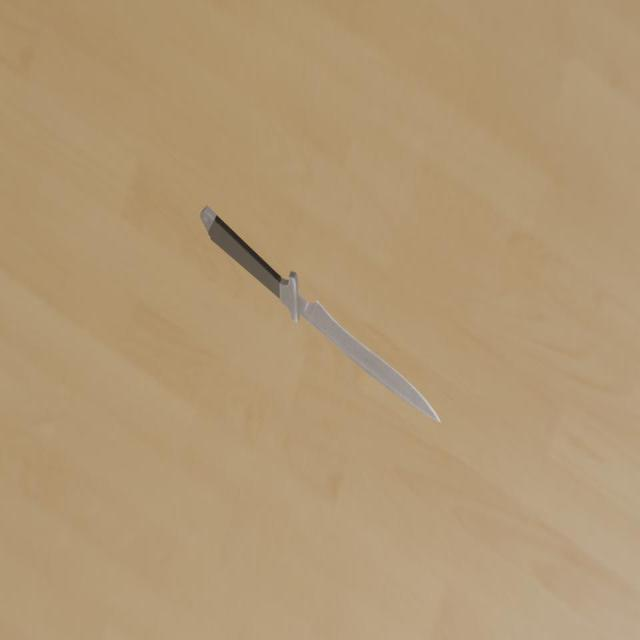knife: (200, 207, 281, 299)
